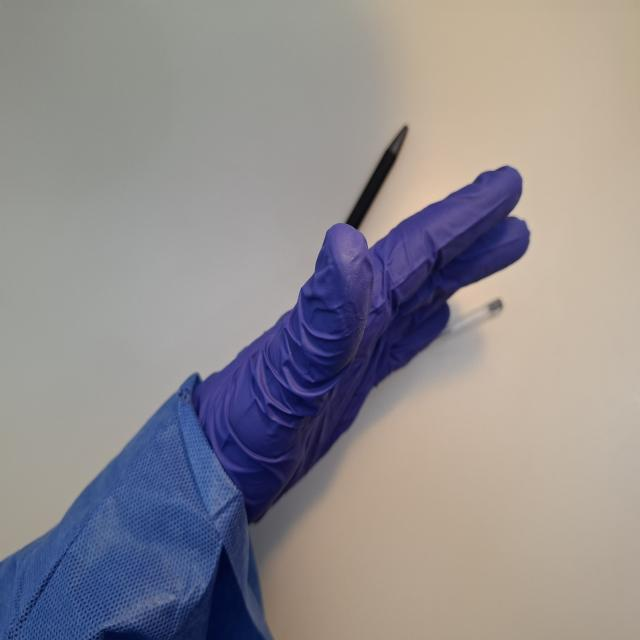glove_on: (185, 159, 533, 531)
